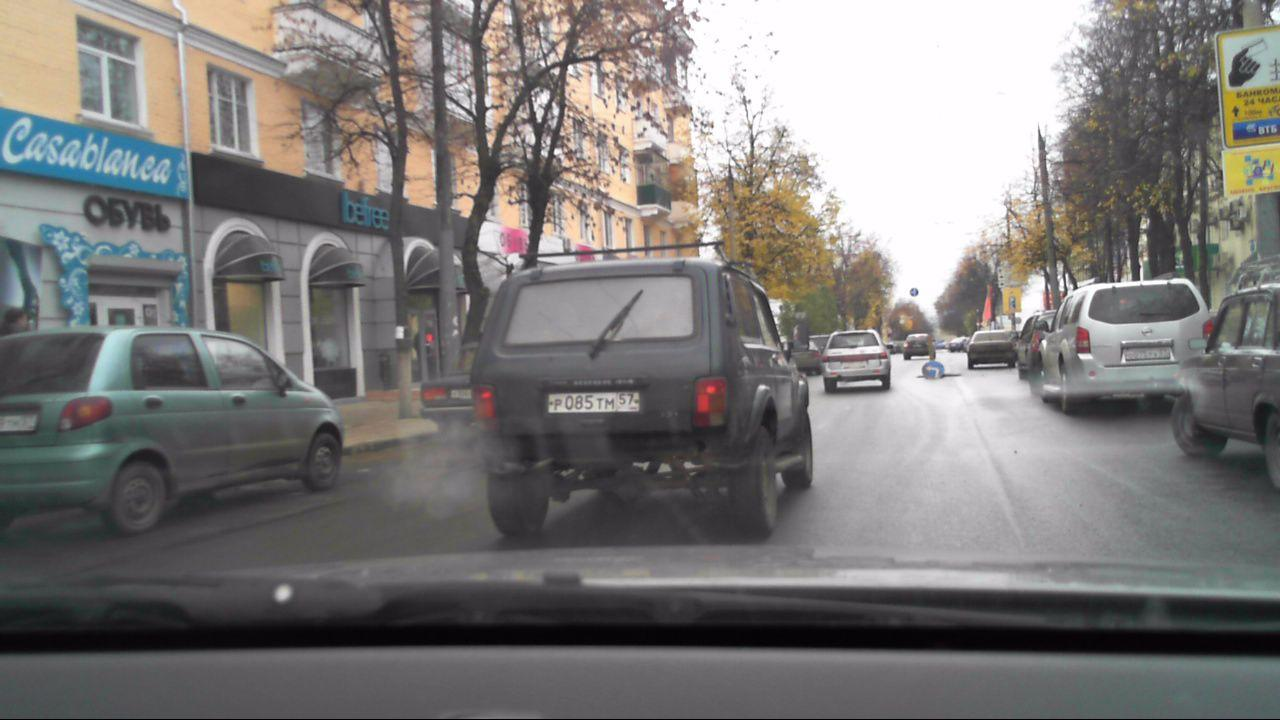4_1_3: (921, 359, 945, 381)
4_1_5: (909, 286, 919, 297)
